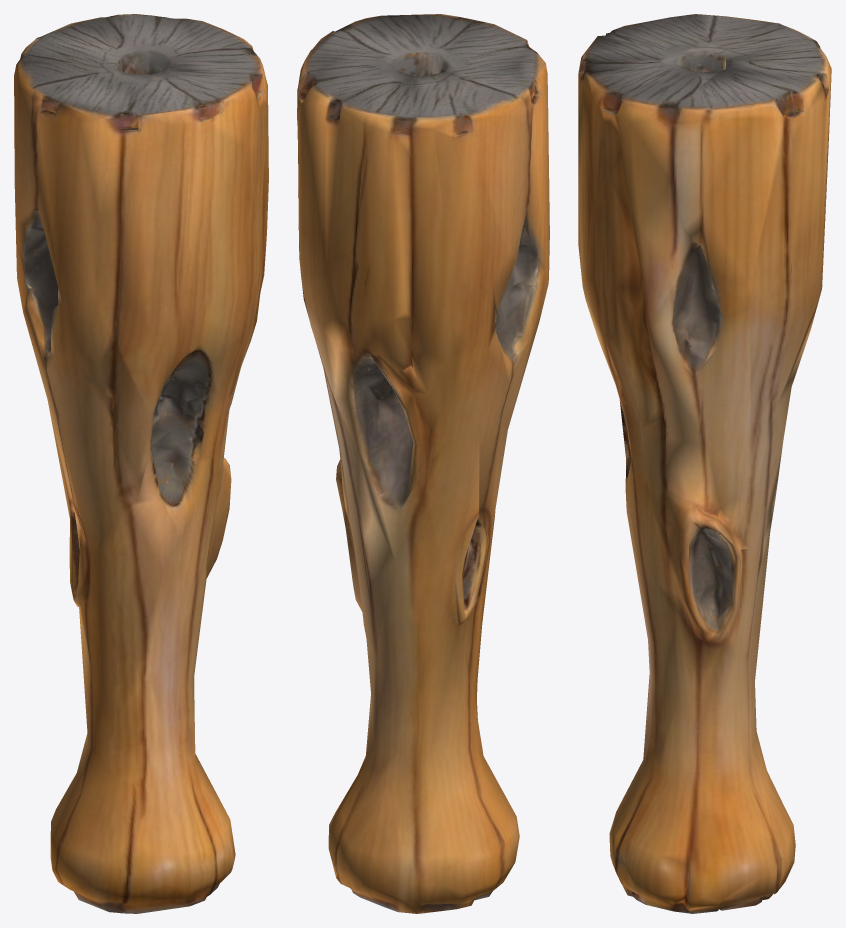
The model's file is 1497_club.glb.
3 views of the same model, side by side, from view 1: azimuth 30°, elevation 25°; view 2: azimuth 150°, elevation 25°; view 3: azimuth 270°, elevation 25° (orthographic).
Visible parts, largest first — view 1: Model; view 2: Model; view 3: Model.
Part boxes in pixels (x1,y1,x2,y2): Model: [14, 14, 268, 913]; Model: [297, 14, 549, 913]; Model: [578, 14, 831, 913].
Bounding box in the file's own units: 0.2746 × 1 × 0.2777.
Materials: 1 (1 with a texture image).
